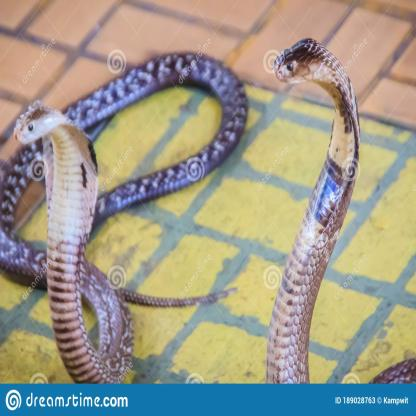Snake: (0, 46, 248, 381), (267, 37, 365, 376)
